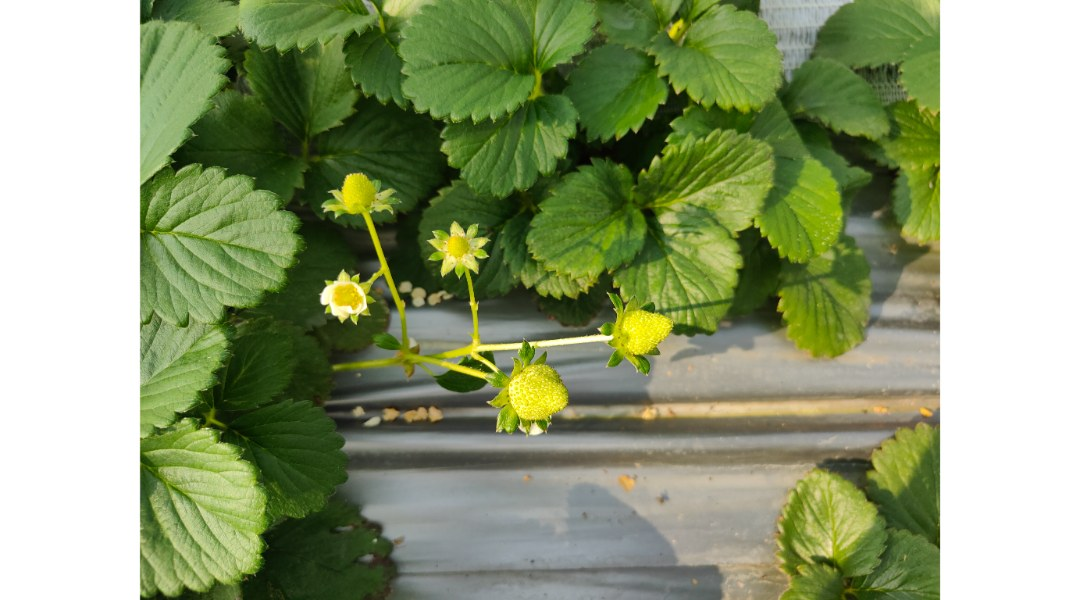berry: (494, 351, 584, 439), (599, 279, 666, 382), (417, 216, 498, 286), (305, 169, 405, 219)
flower: (316, 269, 370, 322)
strain: (361, 221, 410, 344), (451, 270, 484, 351), (479, 341, 619, 356)
